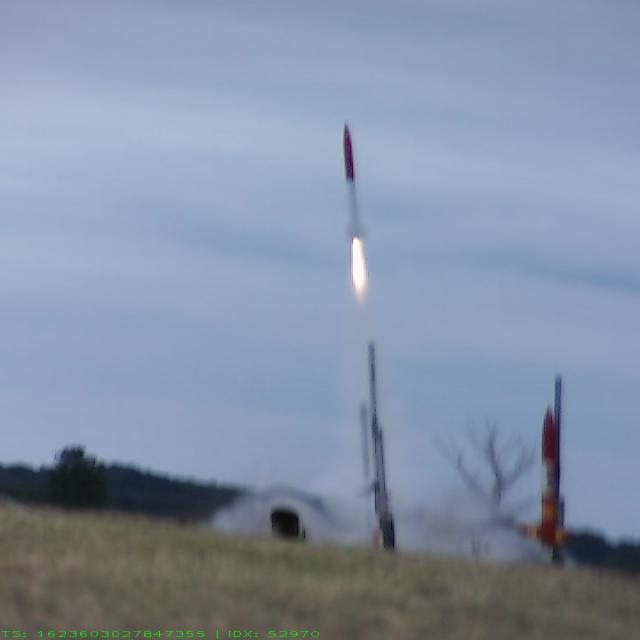Rocket: (515, 403, 572, 549), (338, 119, 370, 238)
